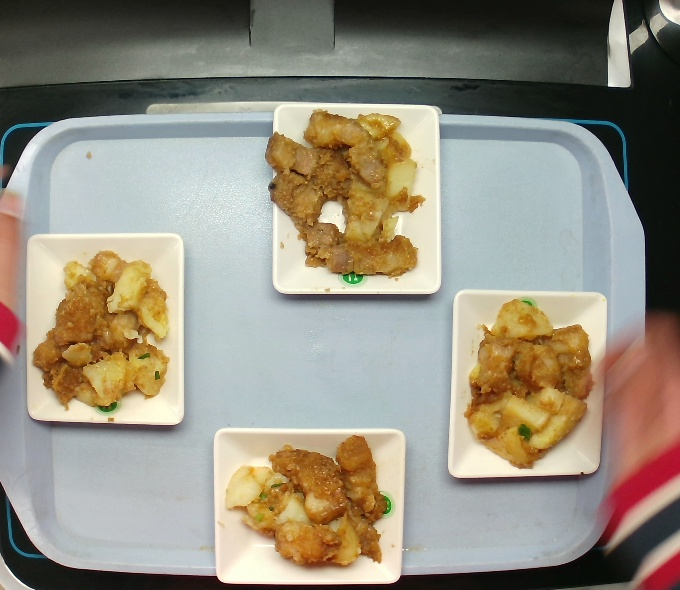wcq-FenZhenRou: (248, 110, 431, 280), (455, 285, 608, 474), (20, 245, 175, 414), (227, 427, 387, 580)
